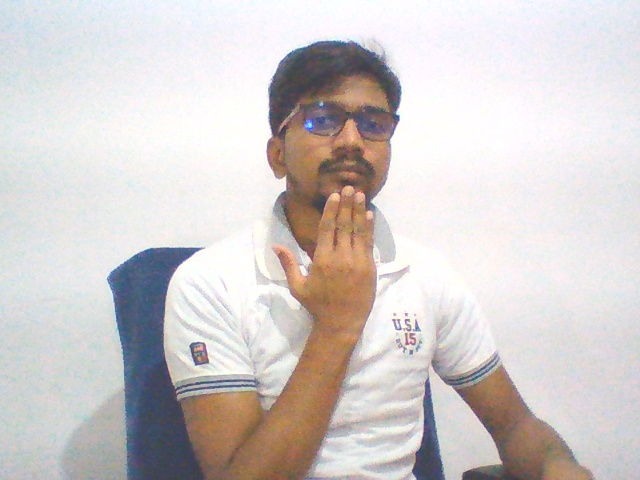mango: (265, 181, 383, 347)
